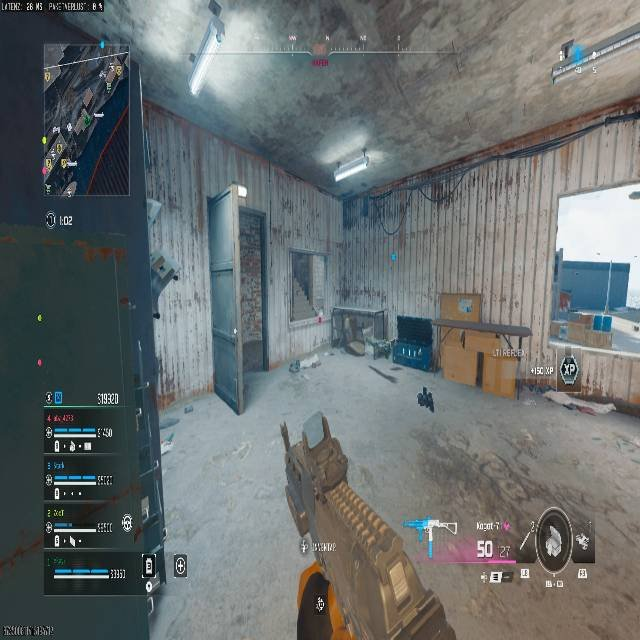head: (421, 385, 428, 393)
player: (150, 253, 179, 320)
